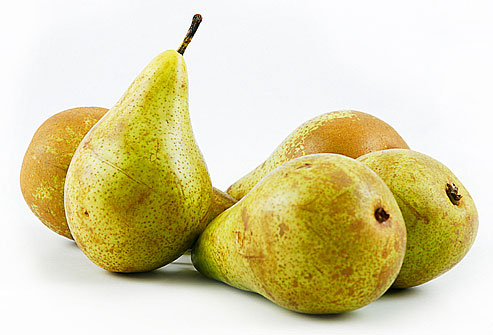pear: (81, 13, 209, 278), (198, 159, 399, 312), (395, 148, 473, 298), (21, 92, 94, 243), (233, 116, 394, 173)
